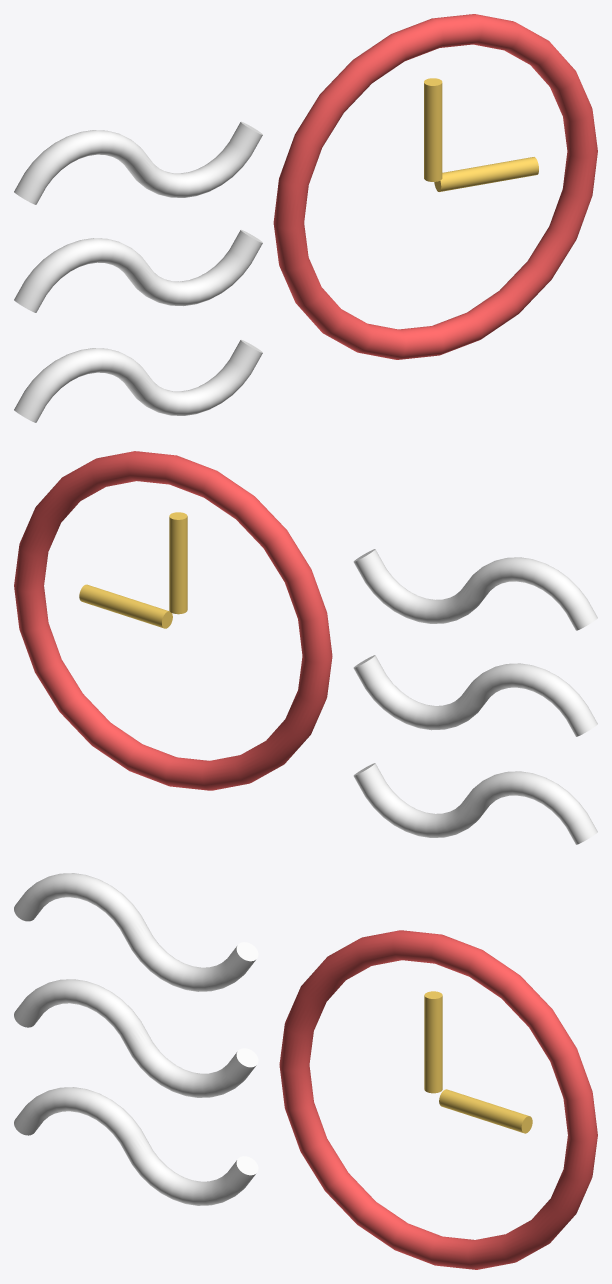
The model's file is SlowMo.fbx.
3 renders of one model, top to bottom at view 1: azimuth 30°, elevation 25°; view 2: azimuth 150°, elevation 25°; view 3: azimuth 330°, elevation 25°, orthographic.
Parts seen in each view (by area): view 1: Model; view 2: Model; view 3: Model.
Part boxes in pixels (box(x1,y1,x2,y2)): Model: box(14, 14, 597, 422); Model: box(14, 451, 597, 844); Model: box(14, 873, 597, 1269).
Bounding box in the file's own units: 105 × 57.38 × 6.3.
